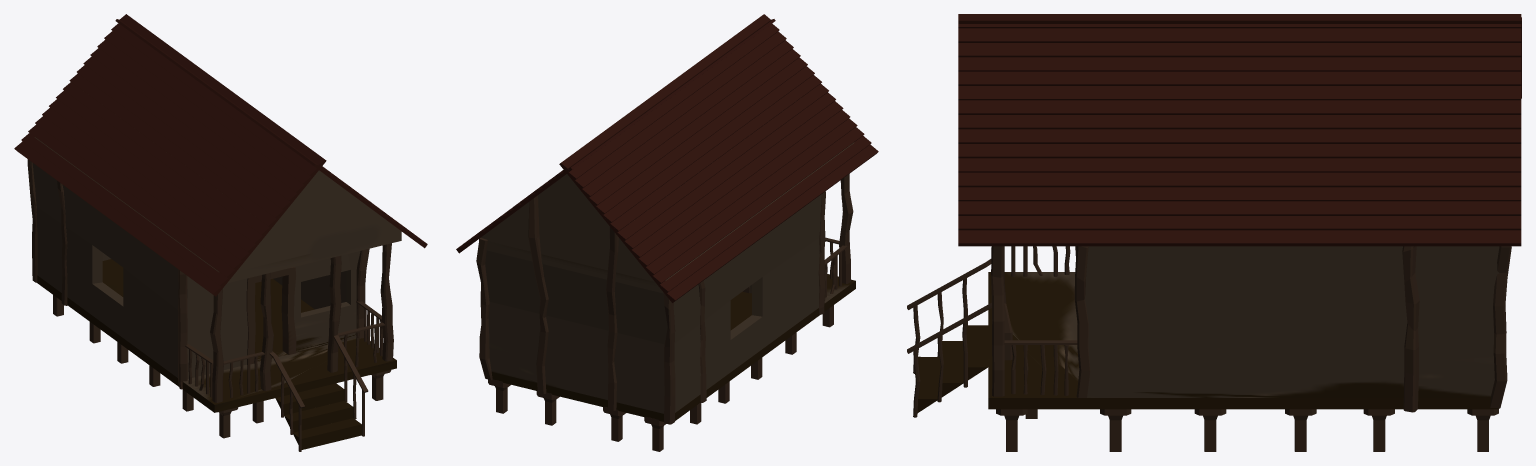
File: cabanaUniverso1 (1).fbx
3 views of the same model, side by side, from view 1: azimuth 30°, elevation 25°; view 2: azimuth 150°, elevation 25°; view 3: azimuth 270°, elevation 25° (orthographic). The views are drawn at different scales.
Parts seen in each view (by area): view 1: cabana; view 2: cabana; view 3: cabana.
Part boxes in pixels (x1,y1,x2,y2): cabana: (14,14,427,451); cabana: (456,14,878,451); cabana: (907,14,1521,451).
Size of the model in its own units: 1781 by 2148 by 3119.
